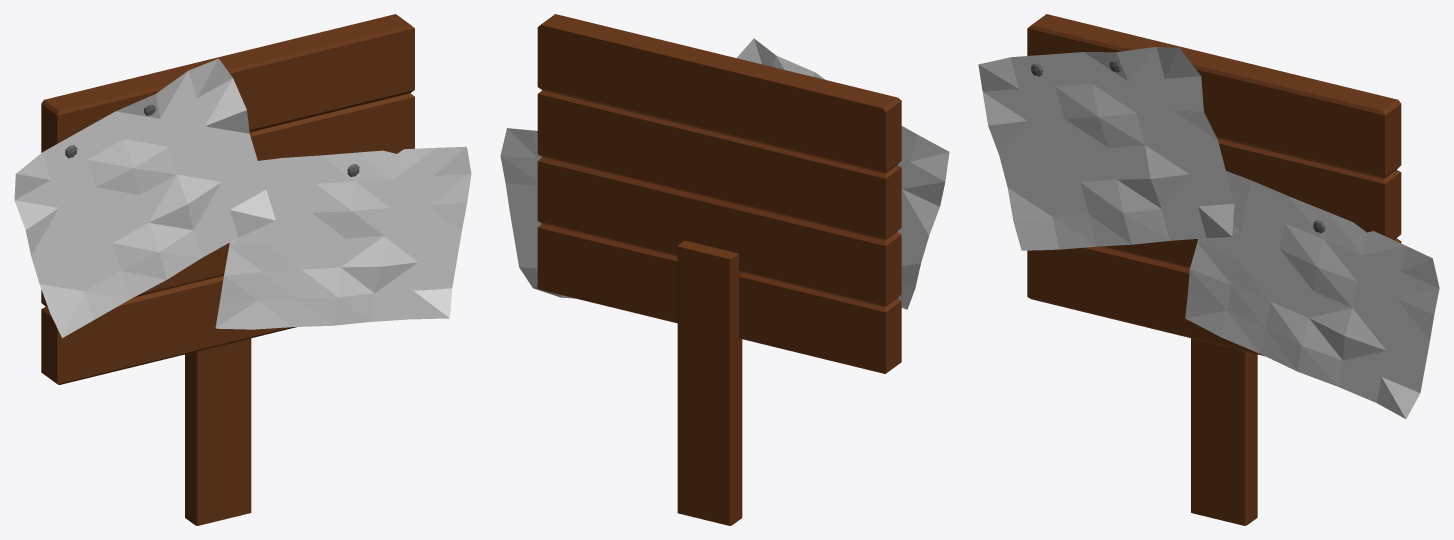
Rendered from Sign2.fbx.
The picture shows the model from 3 angles, left to right: view 1: azimuth 30°, elevation 25°; view 2: azimuth 150°, elevation 25°; view 3: azimuth 330°, elevation 25°; orthographic projection. The views are drawn at different scales.
Visible parts, largest first — view 1: bild1, schild, bild2, pfosten; view 2: schild, pfosten, bild1, bild2; view 3: bild1, schild, bild2, pfosten.
Boxes of the visible parts, bbox=[...] form: bild1: bbox=[14, 58, 275, 338]; schild: bbox=[41, 14, 414, 384]; bild2: bbox=[215, 146, 471, 329]; pfosten: bbox=[185, 338, 251, 525]; schild: bbox=[537, 14, 901, 373]; pfosten: bbox=[677, 240, 742, 525]; bild1: bbox=[737, 38, 949, 309]; bild2: bbox=[500, 128, 574, 298]; bild1: bbox=[978, 46, 1234, 250]; schild: bbox=[1027, 14, 1401, 356]; bild2: bbox=[1185, 171, 1439, 418]; pfosten: bbox=[1191, 338, 1257, 525].
Bounding box in the file's own units: 350 × 349 × 41.51.
